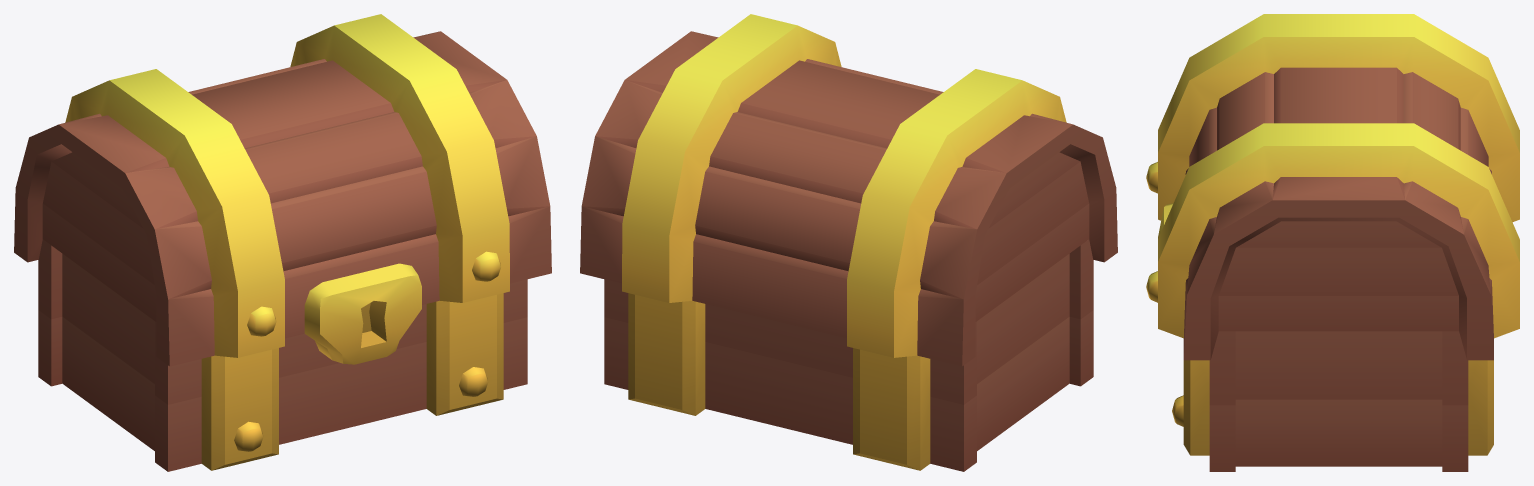
Rendered from chest_gold.glb.
The picture shows the model from 3 angles, left to right: view 1: azimuth 30°, elevation 25°; view 2: azimuth 150°, elevation 25°; view 3: azimuth 270°, elevation 25°; orthographic projection.
Parts seen in each view (by area): view 1: chest_gold_lid, Cube.14744; view 2: chest_gold_lid, Cube.14744; view 3: chest_gold_lid, Cube.14744.
Boxes of the visible parts, <box> form: chest_gold_lid: <box>14,14,551,366</box>; Cube.14744: <box>38,239,527,471</box>; chest_gold_lid: <box>580,14,1117,366</box>; Cube.14744: <box>604,239,1093,471</box>; chest_gold_lid: <box>1146,14,1519,360</box>; Cube.14744: <box>1172,331,1493,471</box>.
Bounding box in the file's own units: 1.7 × 1.3 × 1.45.
1 material, 1 textured.
